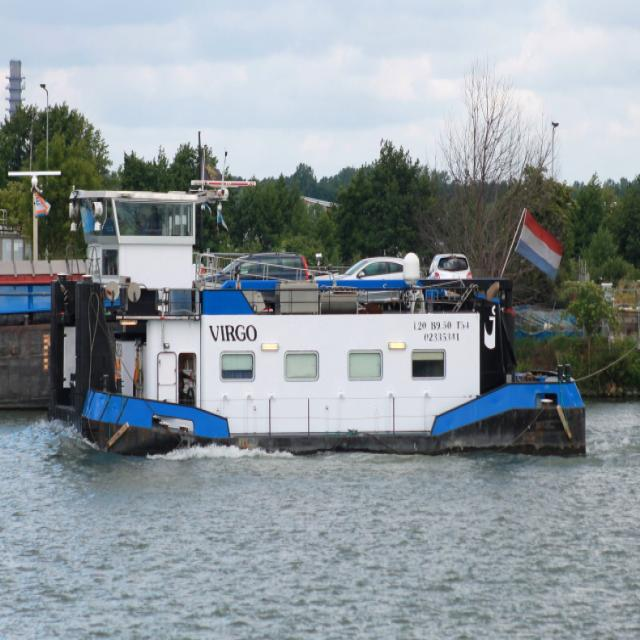tugboat: (45, 176, 595, 489)
